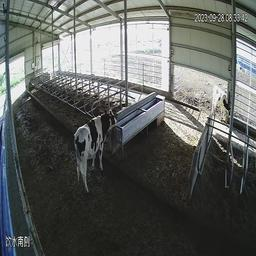cow: (67, 100, 119, 192), (209, 79, 232, 129)
